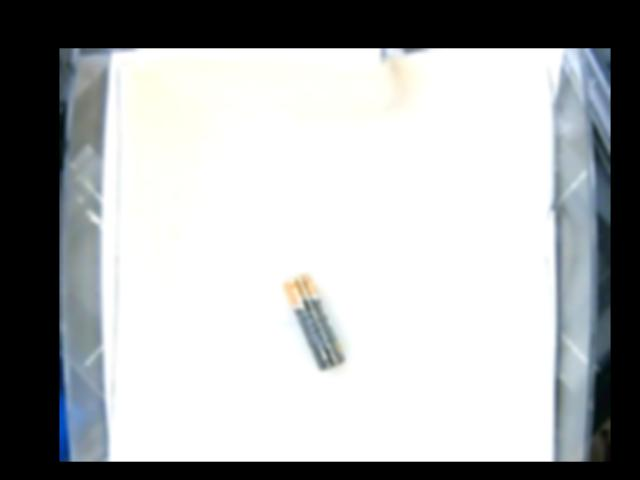Battery: (285, 273, 343, 369)
